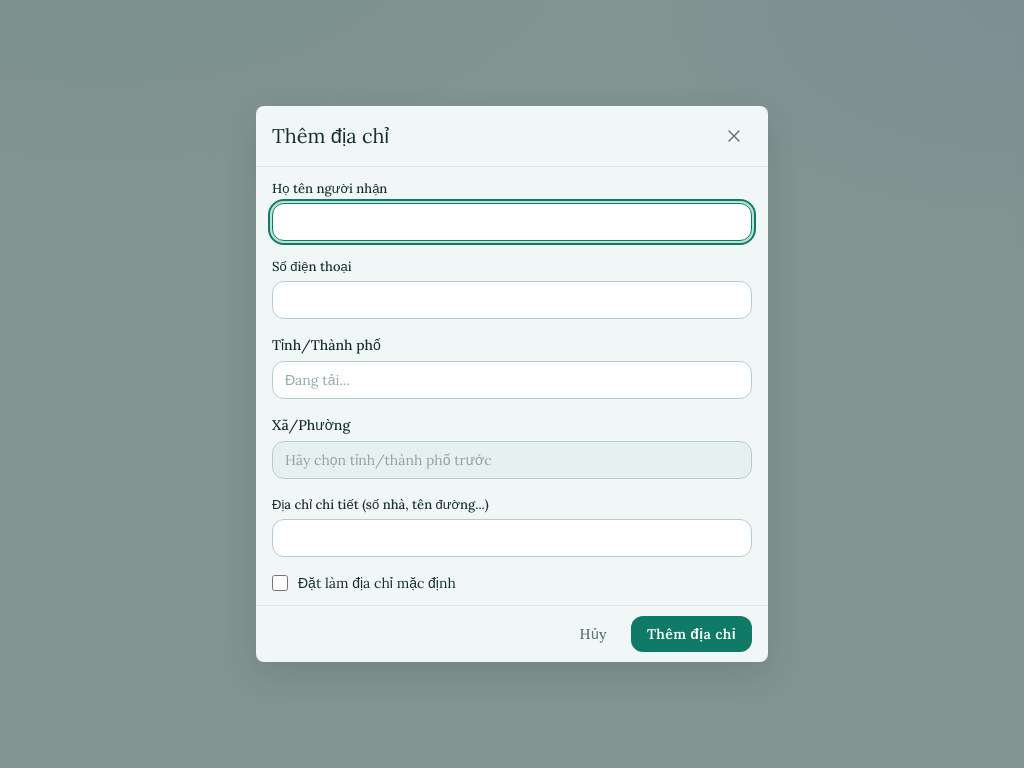
Test: AddressForm › validate phía client: lỗi theo ô, không gọi API
This screenshot has width=1024, height=768.
Type "123" into the field labelled "Số điện thoại" at (512, 300), box [272,281,752,319]
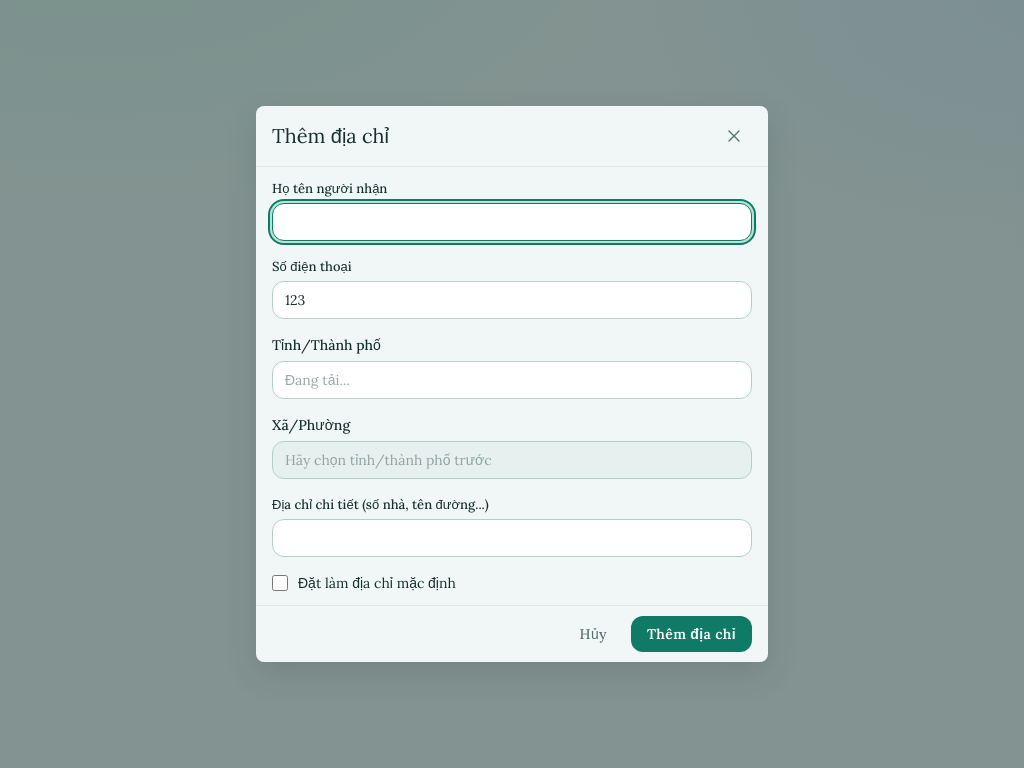
Click the button "Thêm địa chỉ" at (691, 634), box [631,616,752,652]
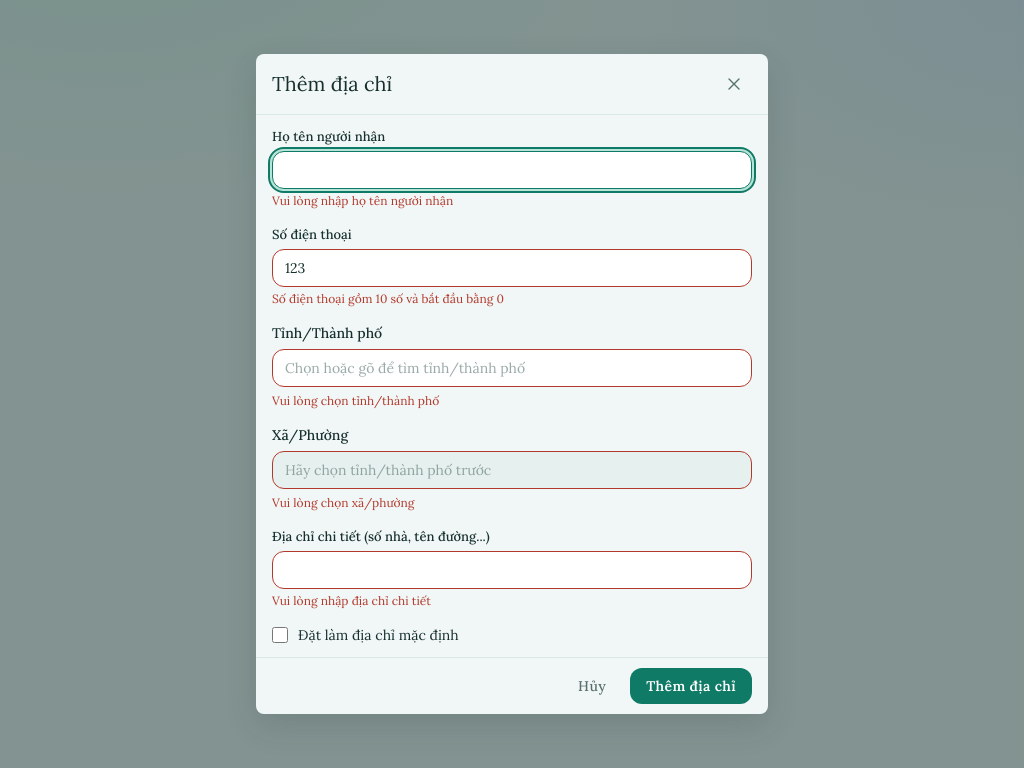
expect the text "Vui lòng nhập họ tên người nhận" is shown: met, box [272,193,453,208]
expect the text "Số điện thoại gồm 10 số và bắt đầu bằng 0" is shown: met, box [272,291,504,306]
expect the text "Vui lòng chọn tỉnh/thành phố" is shown: met, box [272,393,439,408]
